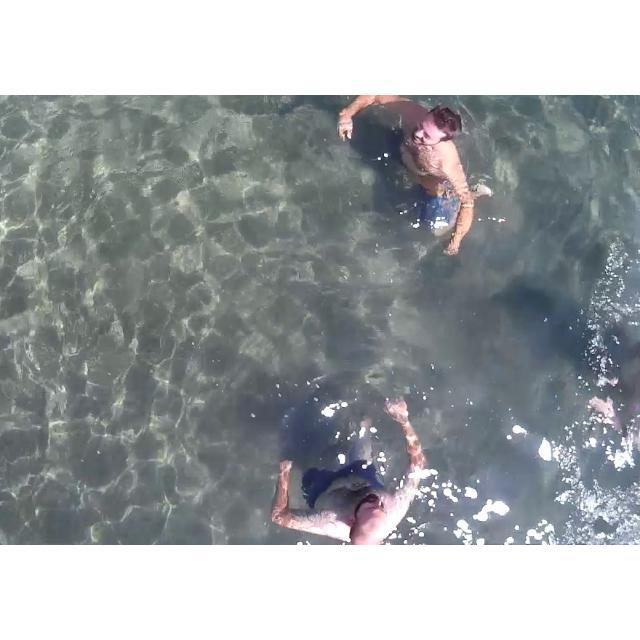human: (348, 95, 494, 257)
